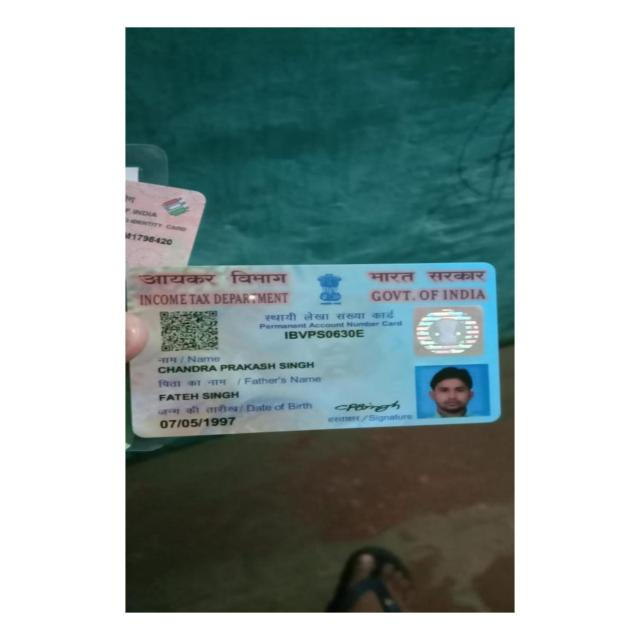pan_card: (130, 264, 502, 441)
